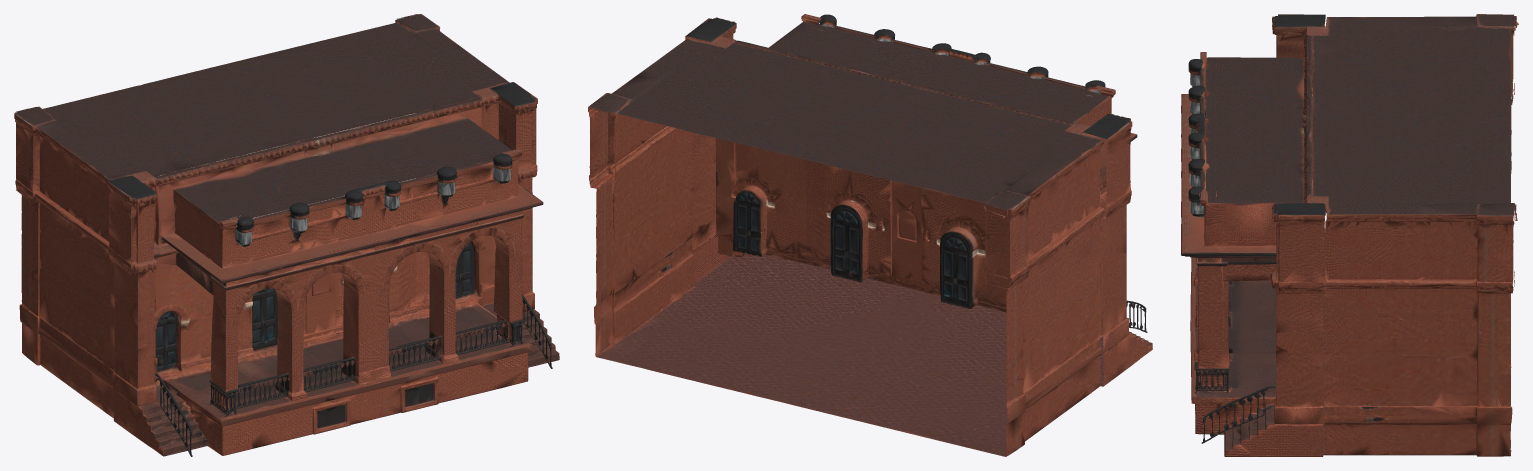
The model's file is lamp_bay.glb.
The picture shows the model from 3 angles, left to right: view 1: azimuth 30°, elevation 25°; view 2: azimuth 150°, elevation 25°; view 3: azimuth 270°, elevation 25°; orthographic projection. The views are drawn at different scales.
Bounding box in the file's own units: 1.9 × 1.07 × 1.34.
1 material, 1 textured.
